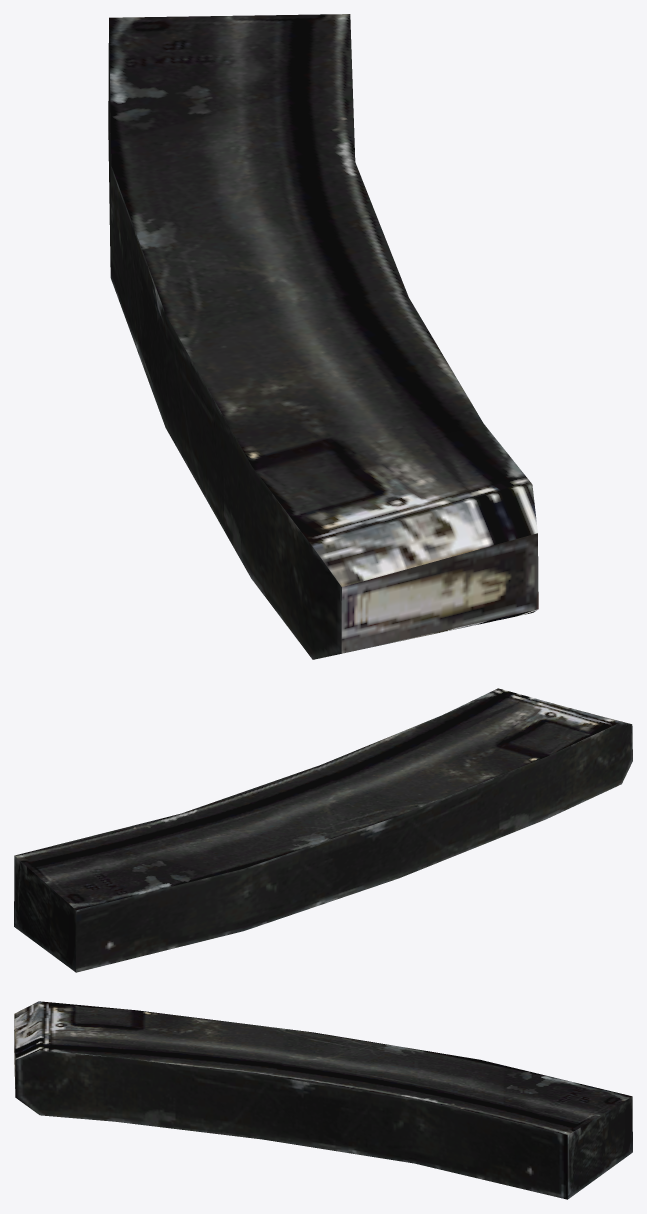
The model's file is weapon_mp5_clip_LOD0.obj.
The picture shows the model from 3 angles, top to bottom: view 1: azimuth 30°, elevation 25°; view 2: azimuth 150°, elevation 25°; view 3: azimuth 270°, elevation 25°; orthographic projection. The views are drawn at different scales.
Visible parts, largest first — view 1: mtl_weapon_mp5; view 2: mtl_weapon_mp5; view 3: mtl_weapon_mp5.
Part boxes in pixels (x1=…): mtl_weapon_mp5: x1=108, y1=14, x2=538, y2=659; mtl_weapon_mp5: x1=14, y1=688, x2=632, y2=972; mtl_weapon_mp5: x1=14, y1=1001, x2=632, y2=1199.
Bounding box in the file's own units: 10.3 × 2.23 × 19.46.
1 material, 1 textured.
